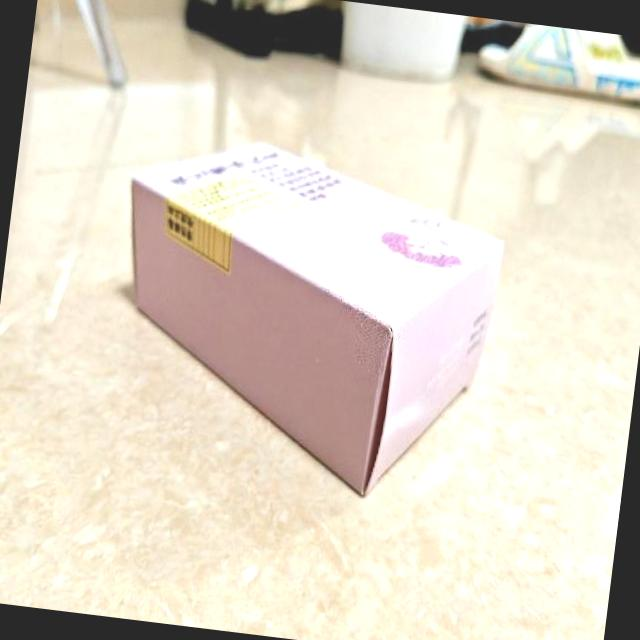box: (96, 125, 514, 511)
